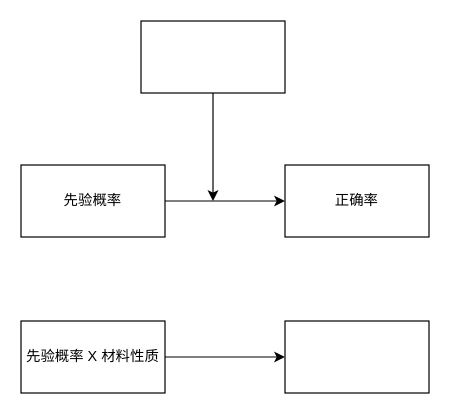
This 450x414 diagram has some shape labels left out. The centre of each missing label's shape, as x and y in pixels:
"材料性质" belongs at pixel 212 56.
"评价为 AI 生成概率" belongs at pixel 356 356.
